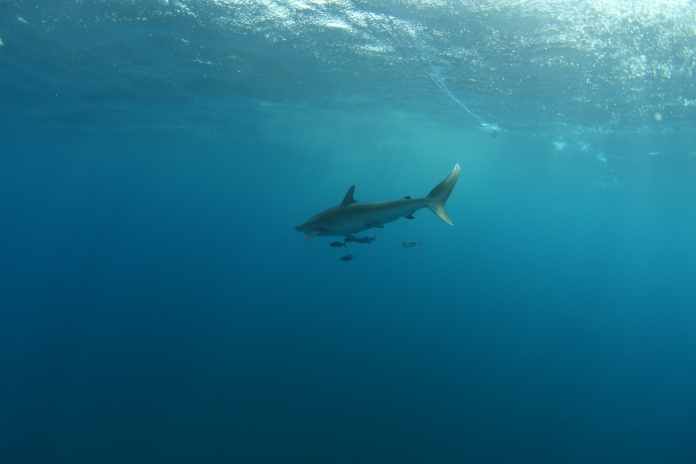Sedoso: (290, 157, 466, 244)
